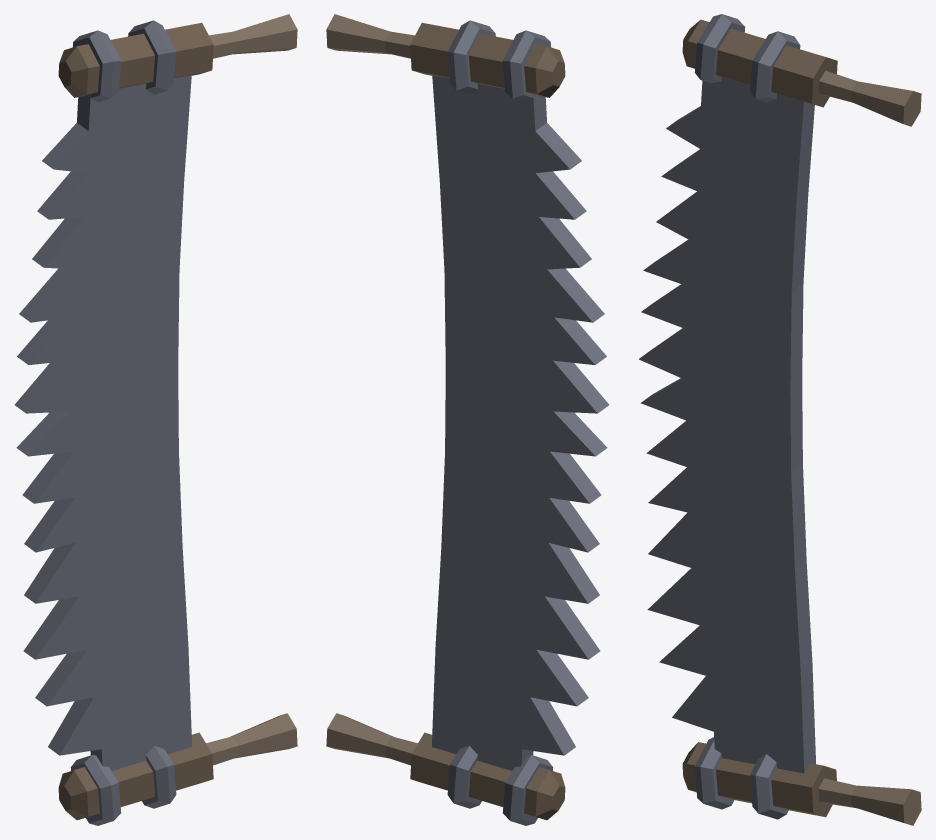
The model's file is _saw_1.fbx.
The picture shows the model from 3 angles, left to right: view 1: azimuth 30°, elevation 25°; view 2: azimuth 150°, elevation 25°; view 3: azimuth 330°, elevation 25°; orthographic projection.
Parts seen in each view (by area): view 1: saw_1; view 2: saw_1; view 3: saw_1.
Part boxes in pixels (x1,y1,x2,y2): saw_1: [14, 14, 297, 825]; saw_1: [326, 14, 609, 825]; saw_1: [639, 14, 921, 825].
Bounding box in the file's own units: 56.62 × 160 × 13.08.
